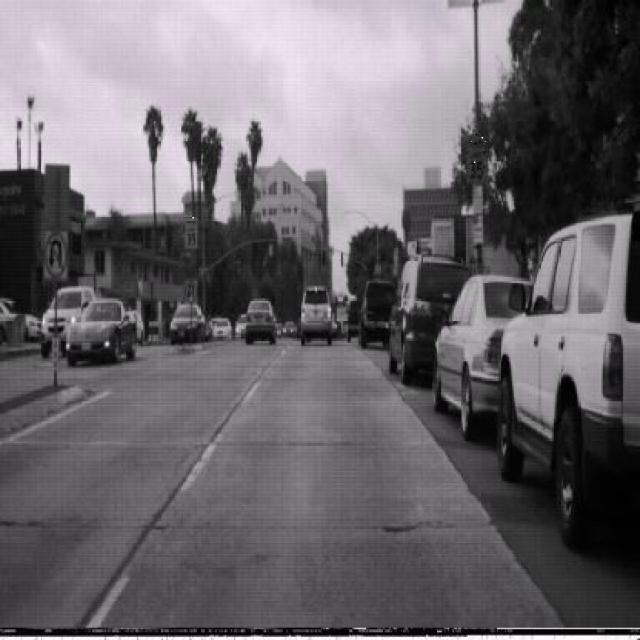speedLimit35: (468, 134, 489, 183), (183, 215, 198, 250)
